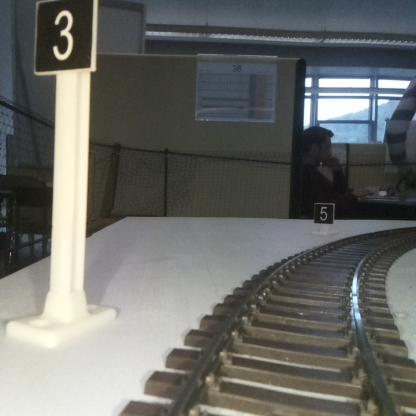black-info-3: (36, 0, 92, 340)
black-stop-5: (314, 203, 333, 232)
